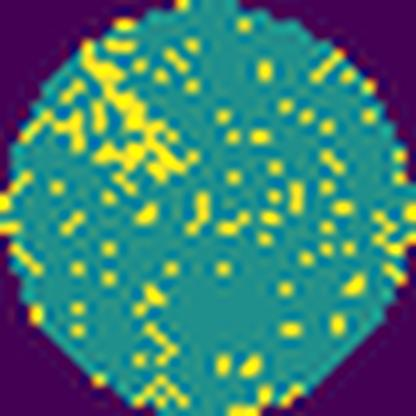Loc: (83, 42, 200, 190), (55, 108, 84, 154)
